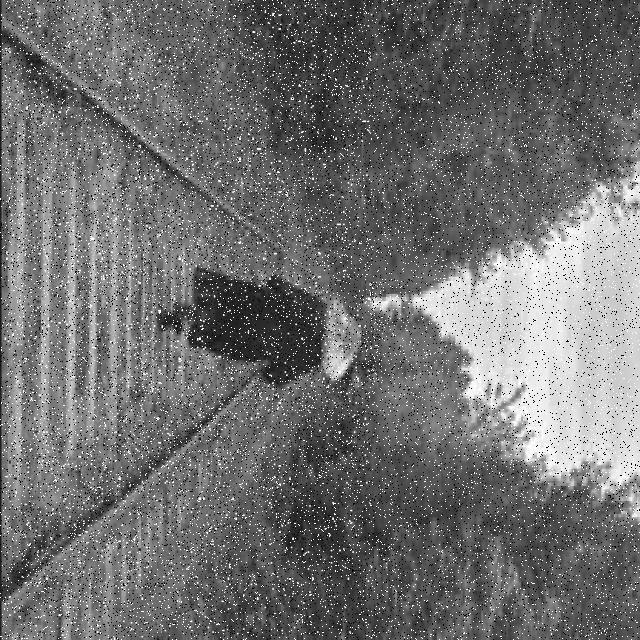rail: (4, 5, 371, 640)
